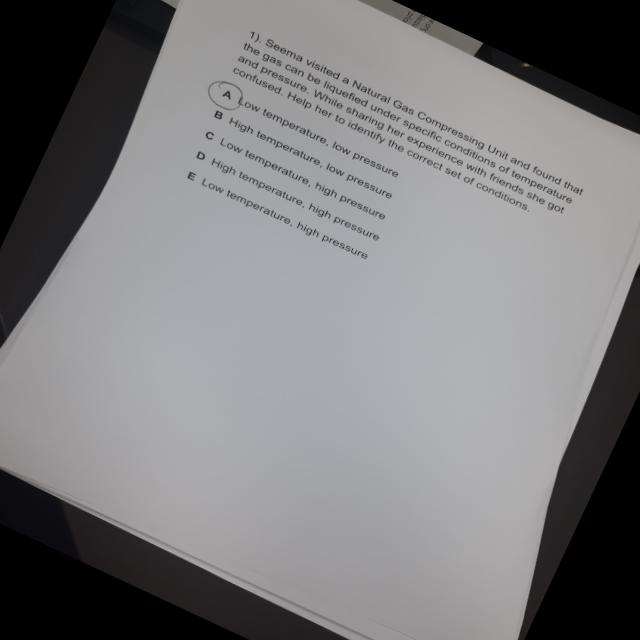A: (200, 73, 253, 119)
